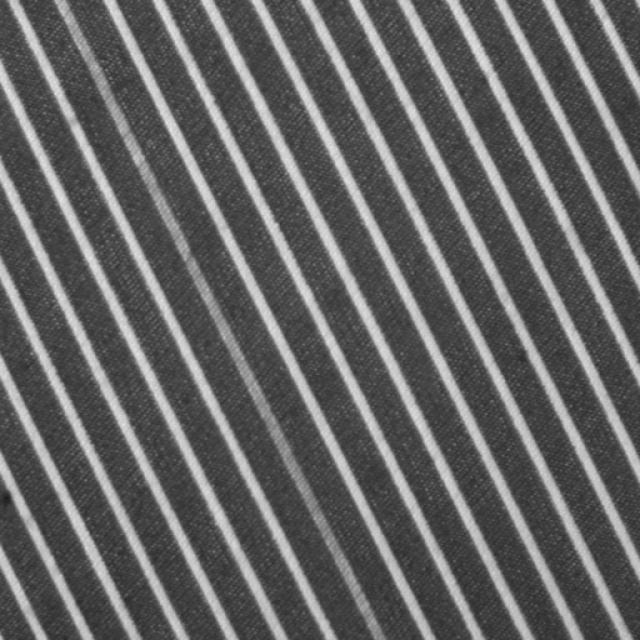Stain-Defect: (56, 0, 386, 639)
